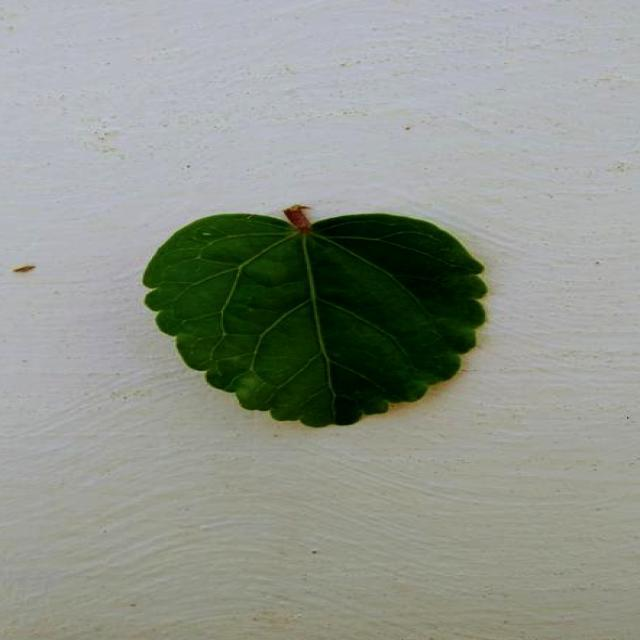leaf: (141, 204, 488, 428)
